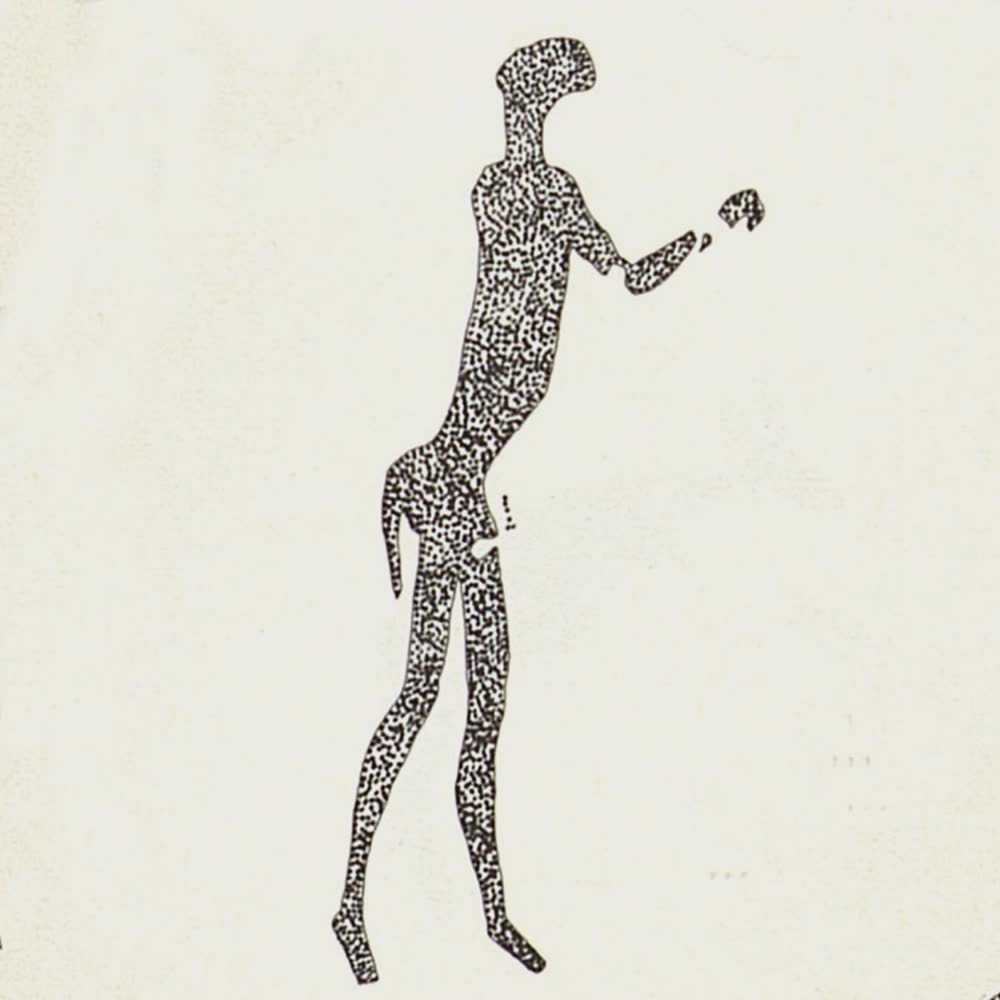man: (330, 36, 766, 985)
